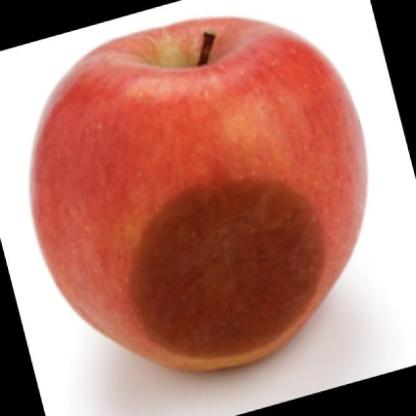defect: (129, 177, 330, 362)
